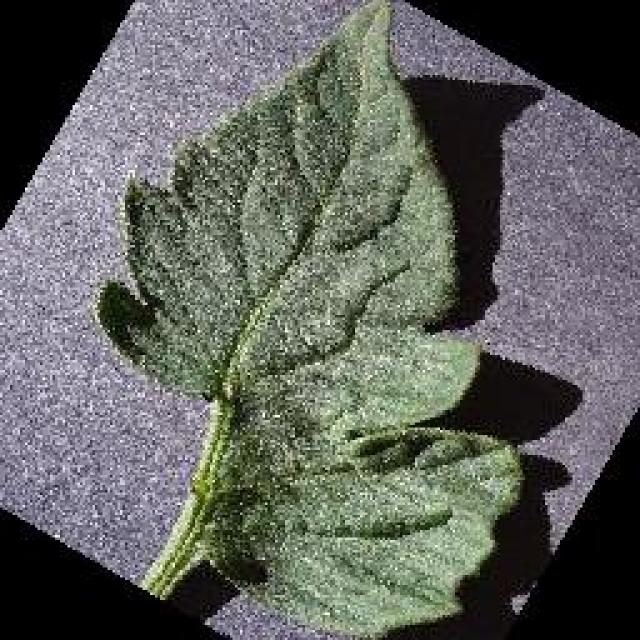Tomato___healthy: (97, 0, 528, 638)
